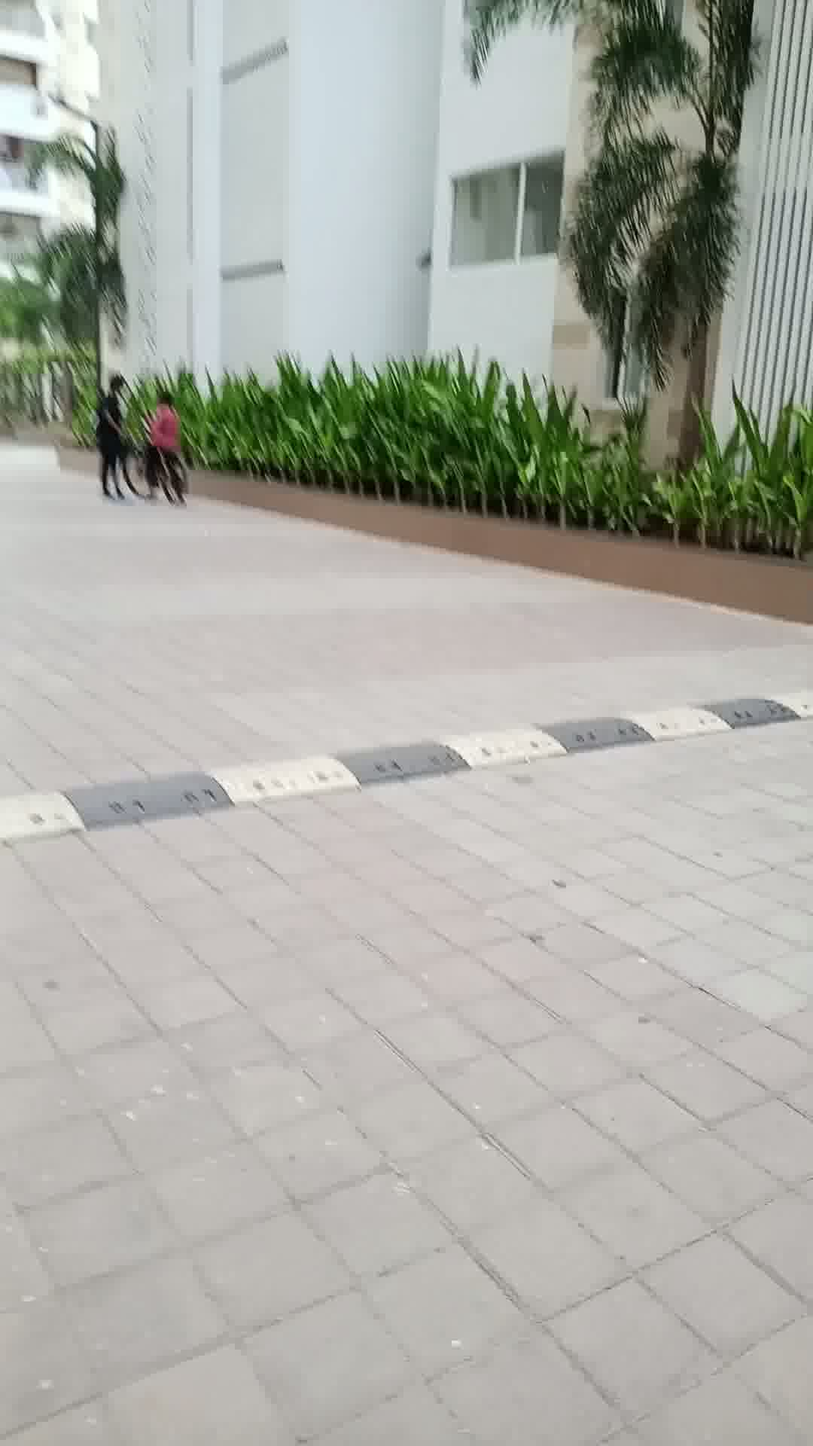bicycle: (125, 444, 202, 501)
person: (88, 370, 131, 518), (139, 376, 193, 455)
tree: (464, 0, 760, 504), (26, 114, 139, 381)
